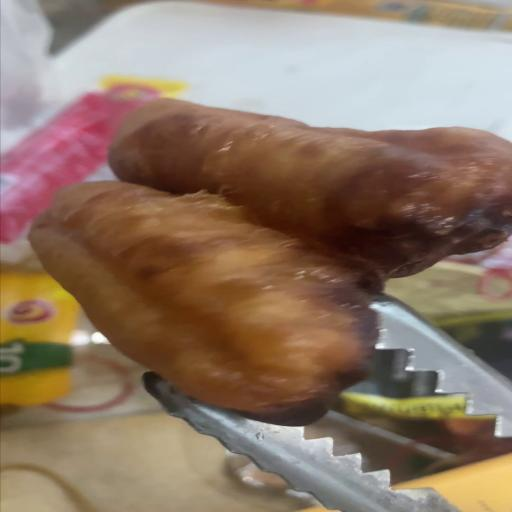street_burnt_defect: (29, 98, 512, 426)
